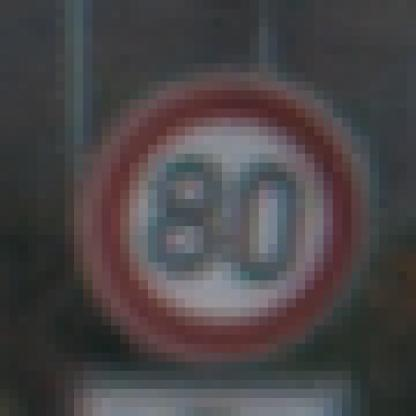Speed Limit 80: (100, 83, 359, 359)
